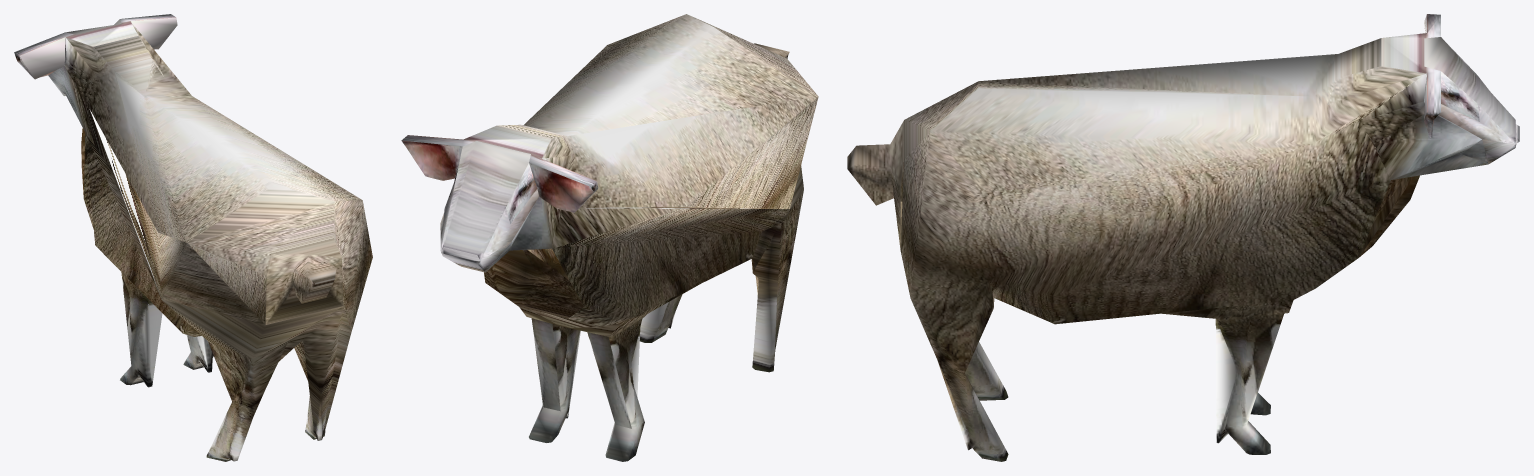
File: sheep_lod2.glb
3 views of the same model, side by side, from view 1: azimuth 30°, elevation 25°; view 2: azimuth 150°, elevation 25°; view 3: azimuth 270°, elevation 25° (orthographic). The views are drawn at different scales.
Visible parts, largest first — view 1: Cube.001; view 2: Cube.001; view 3: Cube.001.
Part boxes in pixels (bbox=[...]): Cube.001: bbox=[14, 14, 372, 461]; Cube.001: bbox=[401, 14, 818, 461]; Cube.001: bbox=[847, 14, 1519, 461].
Size of the model in its own units: 1.2 by 1.79 by 2.89.
Materials: 1 (1 with a texture image).
